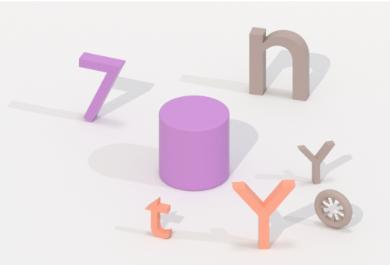0-KhoiTru: (150, 89, 234, 195), (309, 187, 355, 234)
7: (72, 45, 130, 127)
Y: (229, 174, 302, 255), (293, 137, 341, 188)
n: (243, 20, 313, 105)
t: (140, 194, 181, 243)
